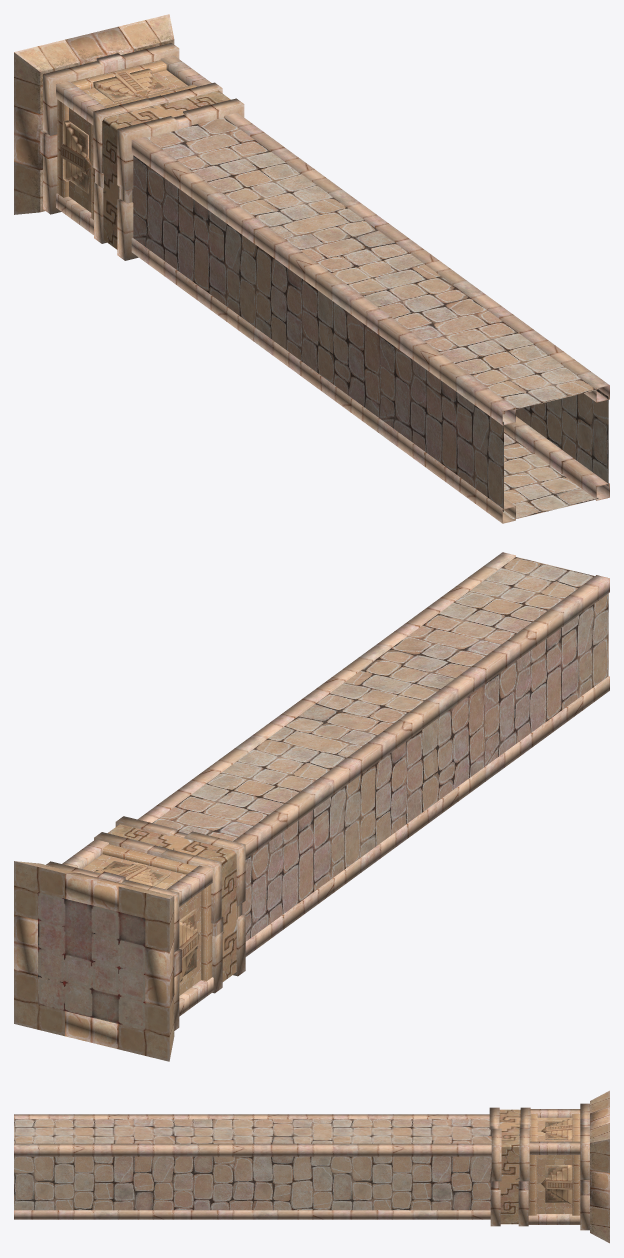
File: StonePillar001.obj
The picture shows the model from 3 angles, top to bottom: view 1: azimuth 30°, elevation 25°; view 2: azimuth 150°, elevation 25°; view 3: azimuth 270°, elevation 25°; orthographic projection. The views are drawn at different scales.
Visible parts, largest first — view 1: pCube4762__WallBrickBase04, EdgeStone01_low10__EdgeStoneBlock03, pCube4371_1__ReliefStonePattern07, EdgeStone01_low10__EdgeStoneBlock02, pCube4759__ReliefStonePattern01, pCube4763_1__StoneBrick00; view 2: pCube4762__WallBrickBase04, EdgeStone01_low10__EdgeStoneBlock03, pCube4758__FloorStoneBase02, EdgeStone01_low10__EdgeStoneBlock02, pCube4371_1__ReliefStonePattern07, pCube4759__ReliefStonePattern01, pCube4763_1__StoneBrick00; view 3: pCube4762__WallBrickBase04, EdgeStone01_low10__EdgeStoneBlock03, pCube4371_1__ReliefStonePattern07, pCube4759__ReliefStonePattern01, EdgeStone01_low10__EdgeStoneBlock02, pCube4763_1__StoneBrick00.
Boxes of the visible parts, x1,y1,x2,y2 form: pCube4762__WallBrickBase04: (132,117,608,519); EdgeStone01_low10__EdgeStoneBlock03: (14,14,609,523); pCube4371_1__ReliefStonePattern07: (57,60,196,219); EdgeStone01_low10__EdgeStoneBlock02: (14,26,191,203); pCube4759__ReliefStonePattern01: (102,90,230,249); pCube4763_1__StoneBrick00: (69,70,187,212); pCube4762__WallBrickBase04: (152,557,608,941); EdgeStone01_low10__EdgeStoneBlock03: (14,552,609,1061); pCube4758__FloorStoneBase02: (38,892,145,1030); EdgeStone01_low10__EdgeStoneBlock02: (14,831,242,1049); pCube4371_1__ReliefStonePattern07: (94,844,212,982); pCube4759__ReliefStonePattern01: (108,824,237,981); pCube4763_1__StoneBrick00: (83,854,201,995); pCube4762__WallBrickBase04: (14,1119,491,1210); EdgeStone01_low10__EdgeStoneBlock03: (14,1090,609,1243); pCube4371_1__ReliefStonePattern07: (528,1114,580,1215); pCube4759__ReliefStonePattern01: (498,1109,520,1224); EdgeStone01_low10__EdgeStoneBlock02: (490,1106,609,1209); pCube4763_1__StoneBrick00: (536,1117,572,1213).
Bounding box in the file's own units: 580 × 580 × 3000.
8 materials, 7 textured.
